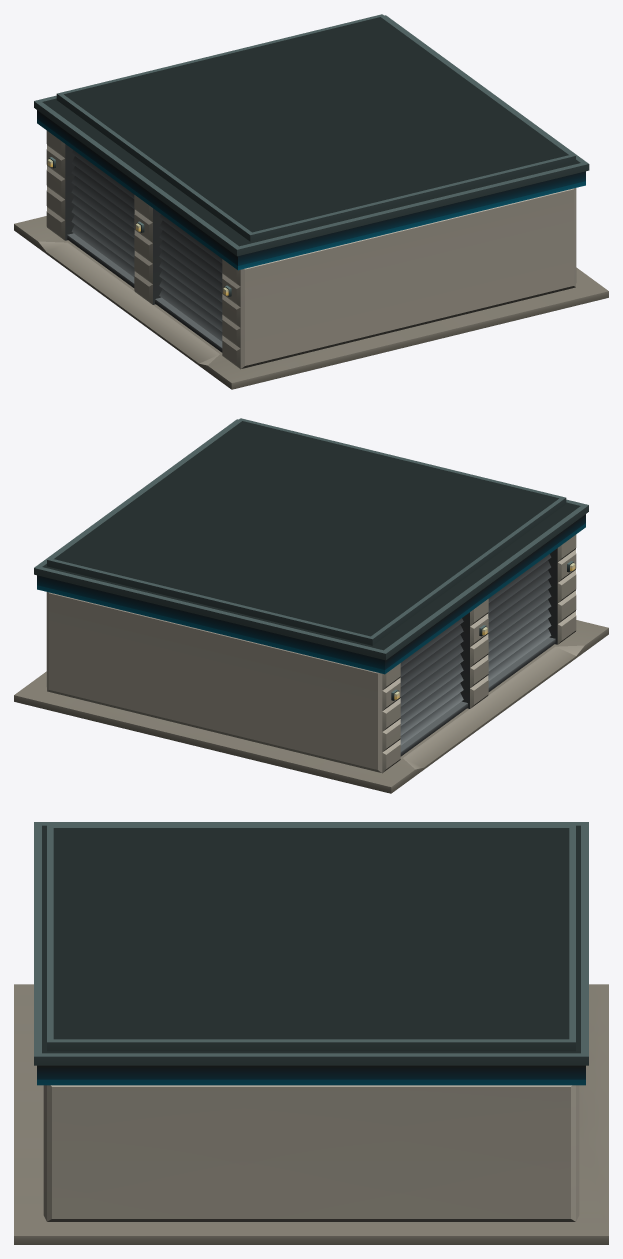
The model's file is Garage_1B.fbx.
3 renders of one model, top to bottom at view 1: azimuth 30°, elevation 25°; view 2: azimuth 150°, elevation 25°; view 3: azimuth 270°, elevation 25°, orthographic. The views are drawn at different scales.
Parts seen in each view (by area): view 1: Garage_1B, Garage_1B_Door.R, Garage_1B_Door.L; view 2: Garage_1B, Garage_1B_Door.L, Garage_1B_Door.R; view 3: Garage_1B.
Part boxes in pixels (x1,y1,x2,y2): Garage_1B: (14, 14, 608, 389); Garage_1B_Door.R: (155, 214, 222, 352); Garage_1B_Door.L: (67, 150, 134, 287); Garage_1B: (14, 418, 608, 793); Garage_1B_Door.L: (400, 618, 467, 756); Garage_1B_Door.R: (488, 554, 555, 691); Garage_1B: (14, 822, 608, 1244).
Size of the model in its own units: 1800 by 630 by 1800.
